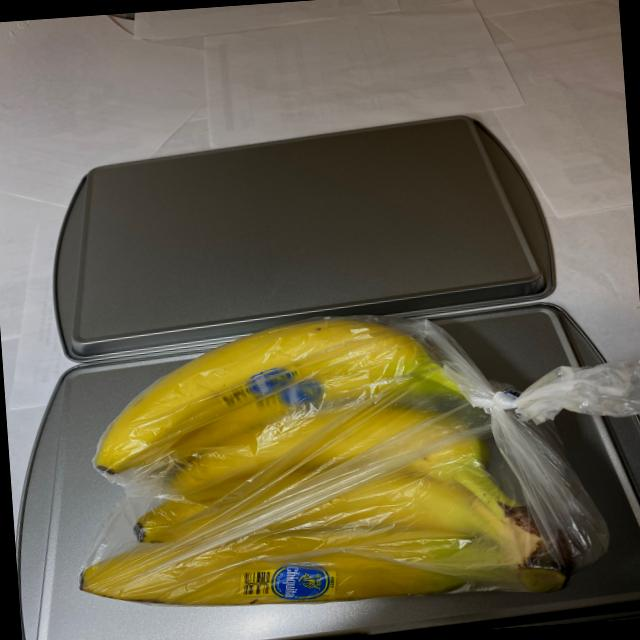banana: (60, 296, 610, 632)
